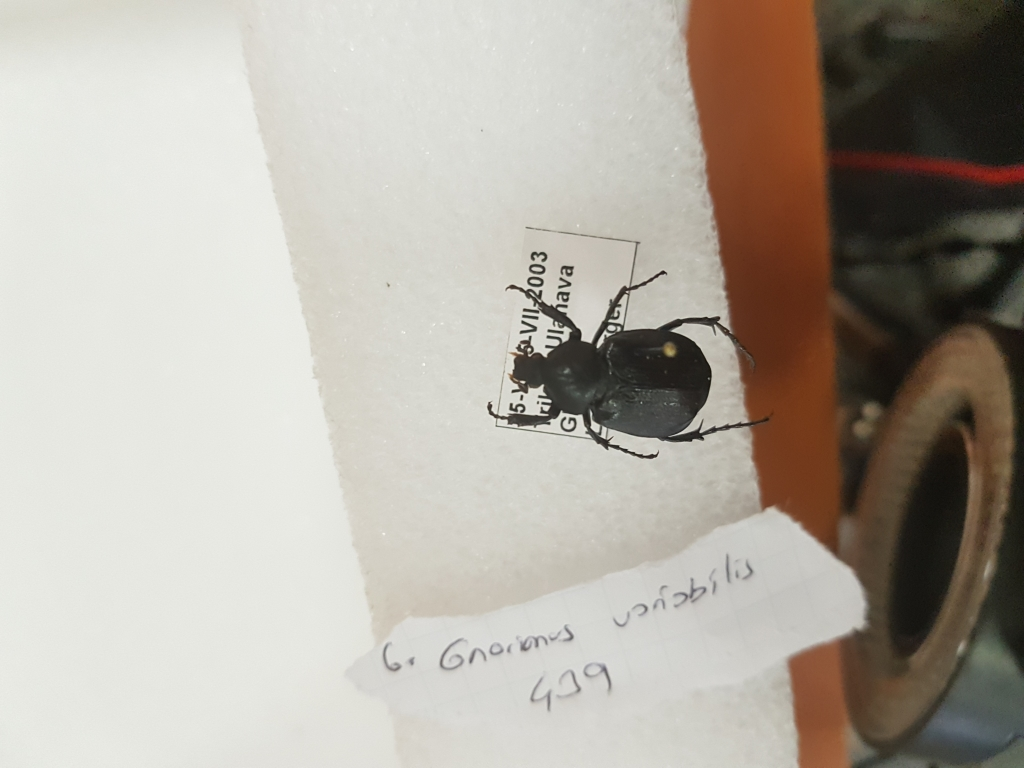Gnorimus_variabilis: (482, 267, 778, 460)
